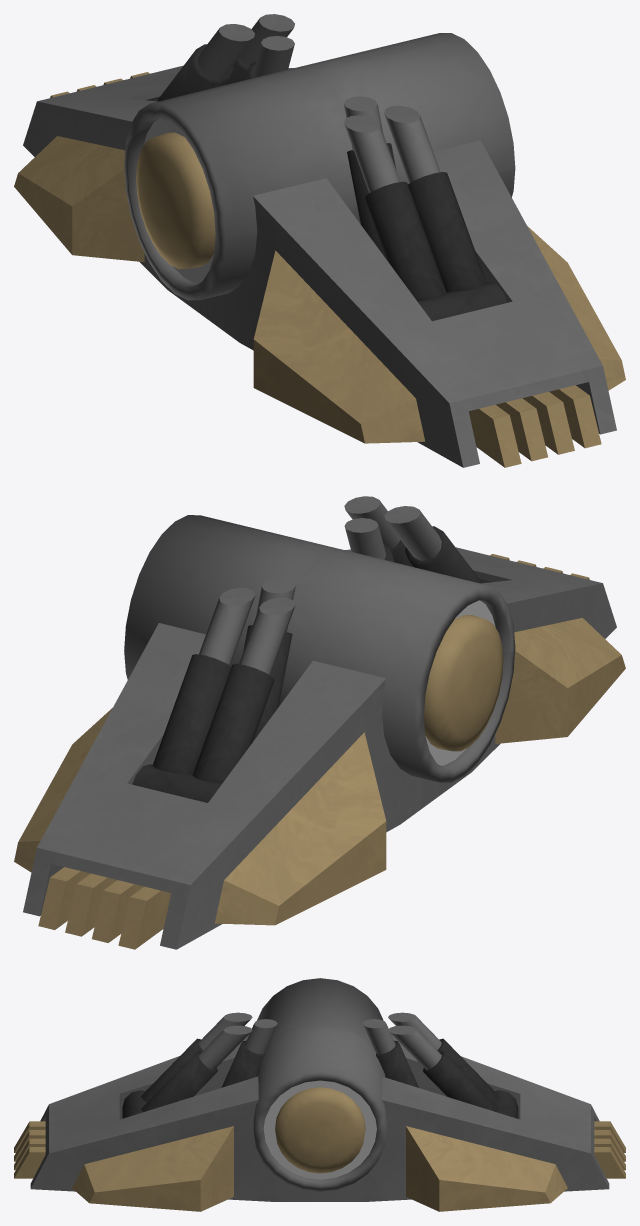
The model's file is feet.fbx.
3 views of the same model, one above another, from view 1: azimuth 30°, elevation 25°; view 2: azimuth 150°, elevation 25°; view 3: azimuth 270°, elevation 25° (orthographic). The views are drawn at different scales.
Visible parts, largest first — view 1: leg.001; view 2: leg.001; view 3: leg.001.
Boxes of the visible parts, x1,y1,x2,y2 form: leg.001: [14, 14, 625, 467]; leg.001: [14, 496, 625, 949]; leg.001: [14, 978, 625, 1211].
Size of the model in its own units: 20.85 by 13.38 by 52.69.
Materials: 1 (1 with a texture image).
